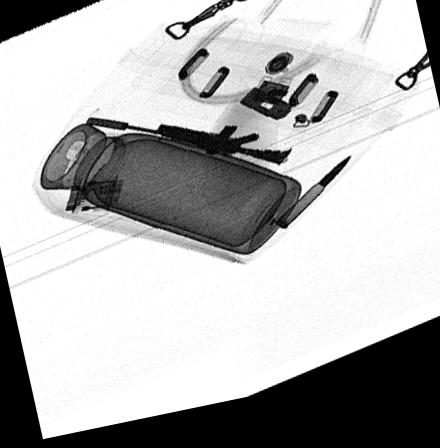Bullet: (274, 170, 353, 241)
Gun: (86, 120, 292, 177)
